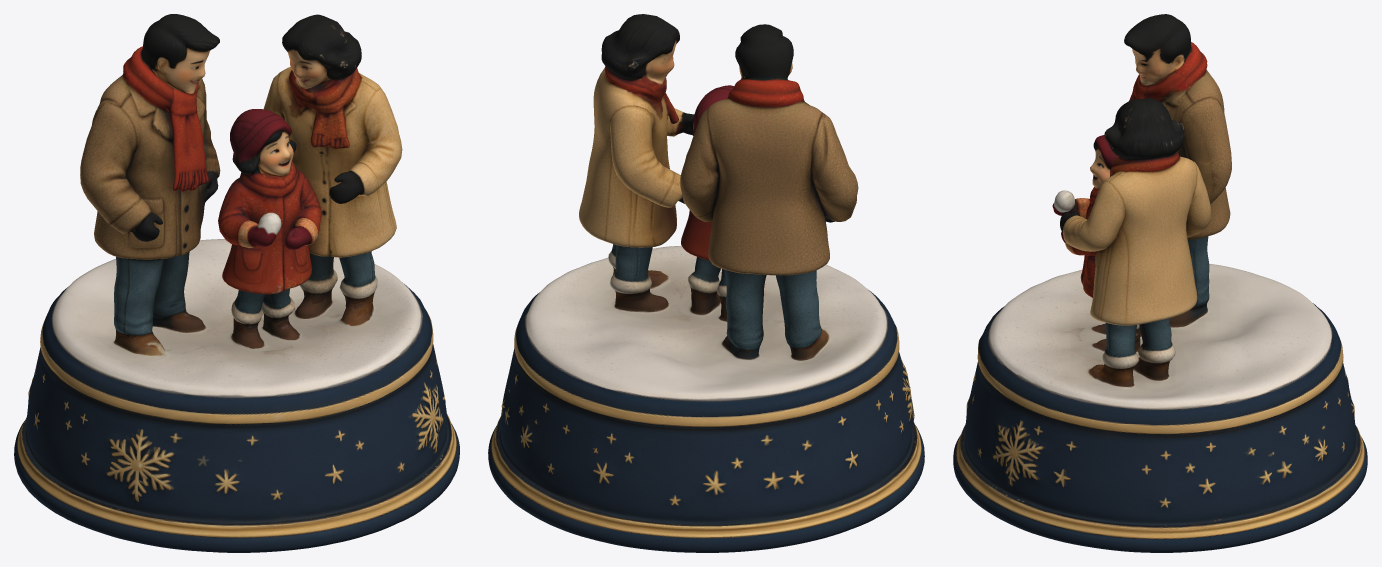
Rendered from tripo_convert_42a9a24f-93b2-4131-a91d-a04ddd93ab4e.fbx.
The picture shows the model from 3 angles, left to right: view 1: azimuth 30°, elevation 25°; view 2: azimuth 150°, elevation 25°; view 3: azimuth 270°, elevation 25°; orthographic projection. The views are drawn at different scales.
Parts seen in each view (by area): view 1: tripo_node_42a9a24f; view 2: tripo_node_42a9a24f; view 3: tripo_node_42a9a24f.
Boxes of the visible parts, x1=… form: tripo_node_42a9a24f: x1=14, y1=14, x2=459, y2=552; tripo_node_42a9a24f: x1=488, y1=14, x2=924, y2=552; tripo_node_42a9a24f: x1=953, y1=14, x2=1367, y2=552.
Size of the model in its own units: 0.8656 by 0.9782 by 0.8664.
1 material, 1 textured.
